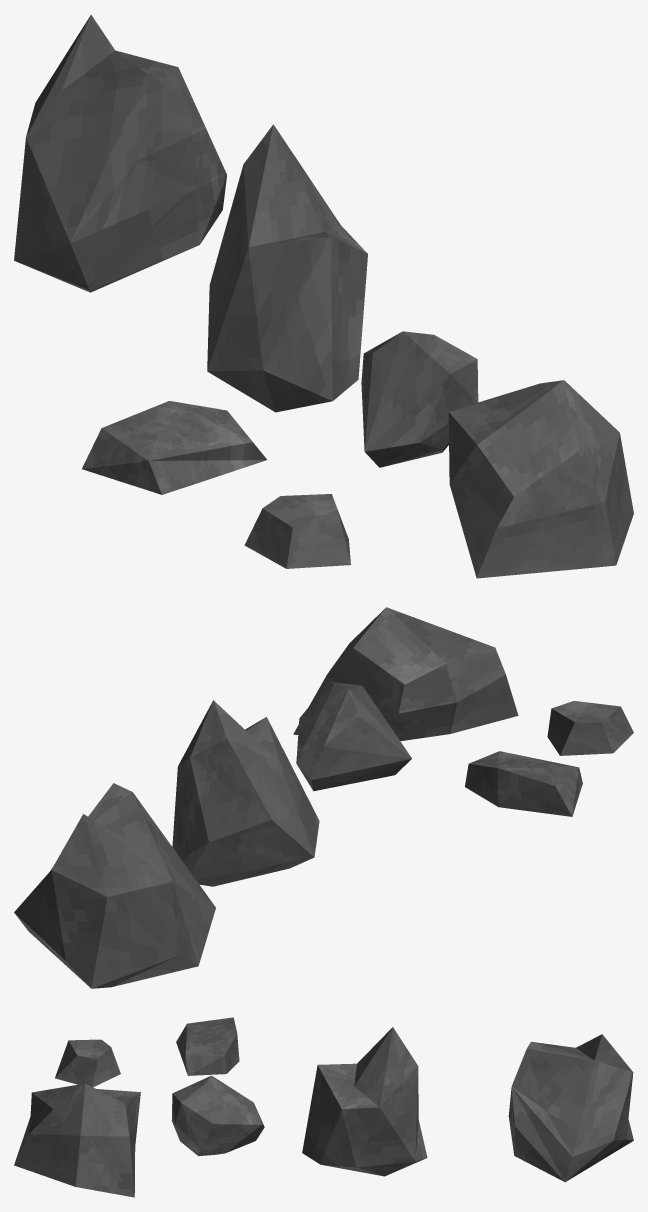
File: rocks.fbx
The picture shows the model from 3 angles, top to bottom: view 1: azimuth 30°, elevation 25°; view 2: azimuth 150°, elevation 25°; view 3: azimuth 270°, elevation 25°; orthographic projection. The views are drawn at different scales.
Parts seen in each view (by area): view 1: rock-06, rock-05, rock-01, rock-02, rock-04, rock-03; view 2: rock-06, rock-05, rock-01, rock-02, rock-04, rock-03; view 3: rock-06, rock-05, rock-01, rock-02, rock-04, rock-03.
Part boxes in pixels (x1=…): rock-06: x1=14, y1=14, x2=226, y2=292; rock-05: x1=207, y1=124, x2=367, y2=412; rock-01: x1=448, y1=380, x2=633, y2=578; rock-02: x1=361, y1=331, x2=478, y2=467; rock-04: x1=82, y1=401, x2=266, y2=494; rock-03: x1=244, y1=494, x2=350, y2=568; rock-06: x1=14, y1=783, x2=215, y2=988; rock-05: x1=172, y1=700, x2=319, y2=886; rock-01: x1=293, y1=607, x2=518, y2=741; rock-02: x1=296, y1=682, x2=411, y2=791; rock-04: x1=465, y1=751, x2=582, y2=816; rock-03: x1=547, y1=701, x2=633, y2=755; rock-06: x1=508, y1=1034, x2=633, y2=1182; rock-05: x1=302, y1=1027, x2=427, y2=1176; rock-01: x1=14, y1=1083, x2=140, y2=1197; rock-02: x1=171, y1=1075, x2=264, y2=1156; rock-04: x1=176, y1=1017, x2=239, y2=1075; rock-03: x1=55, y1=1039, x2=120, y2=1087.
Size of the model in its own units: 985 by 2009 by 527.
1 material, 1 textured.
